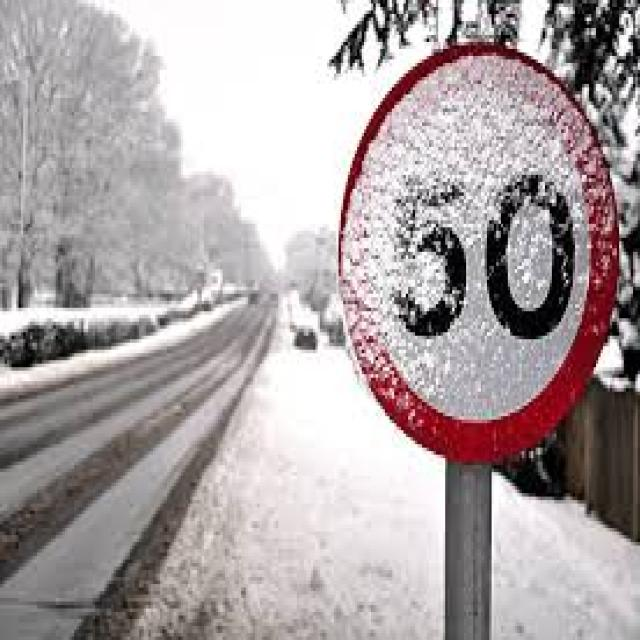Speed limit 50: (335, 36, 622, 470)
